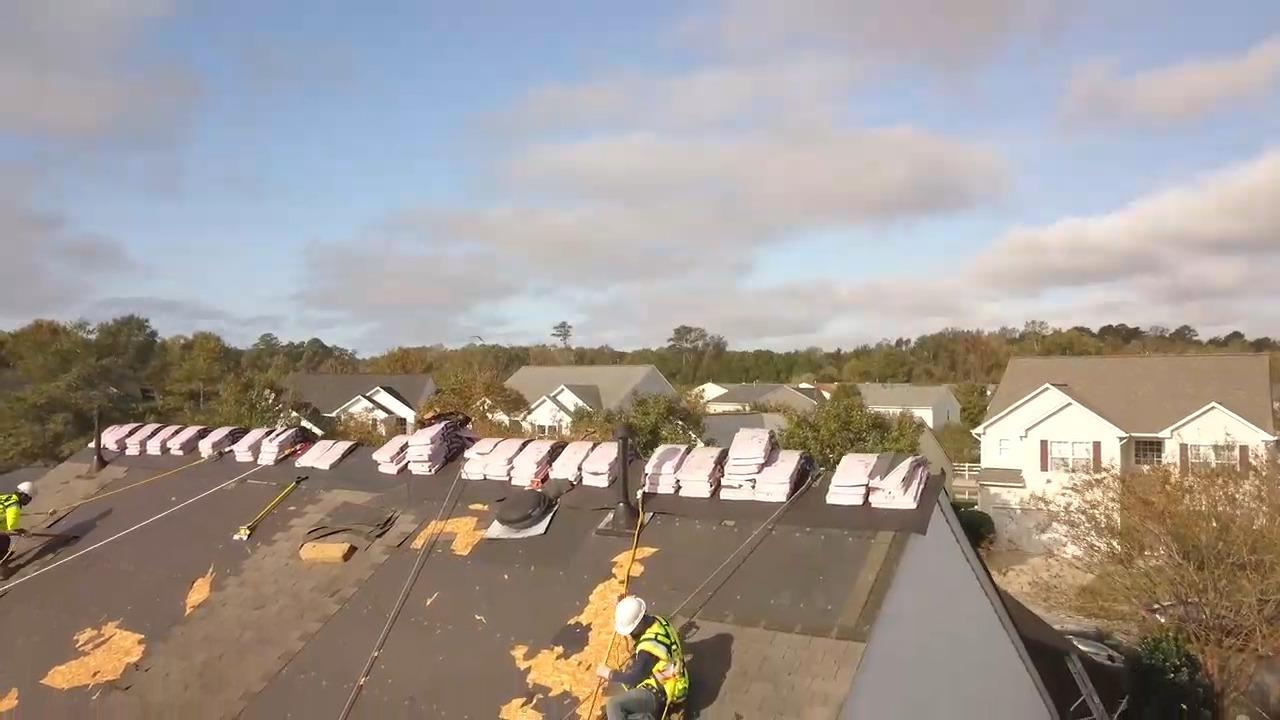Gloves: (593, 655, 613, 681)
Helmet: (611, 593, 644, 629), (16, 479, 37, 497)
Person: (594, 594, 690, 719), (0, 480, 33, 579)
Safety Vest: (647, 633, 684, 700), (0, 497, 18, 533)
